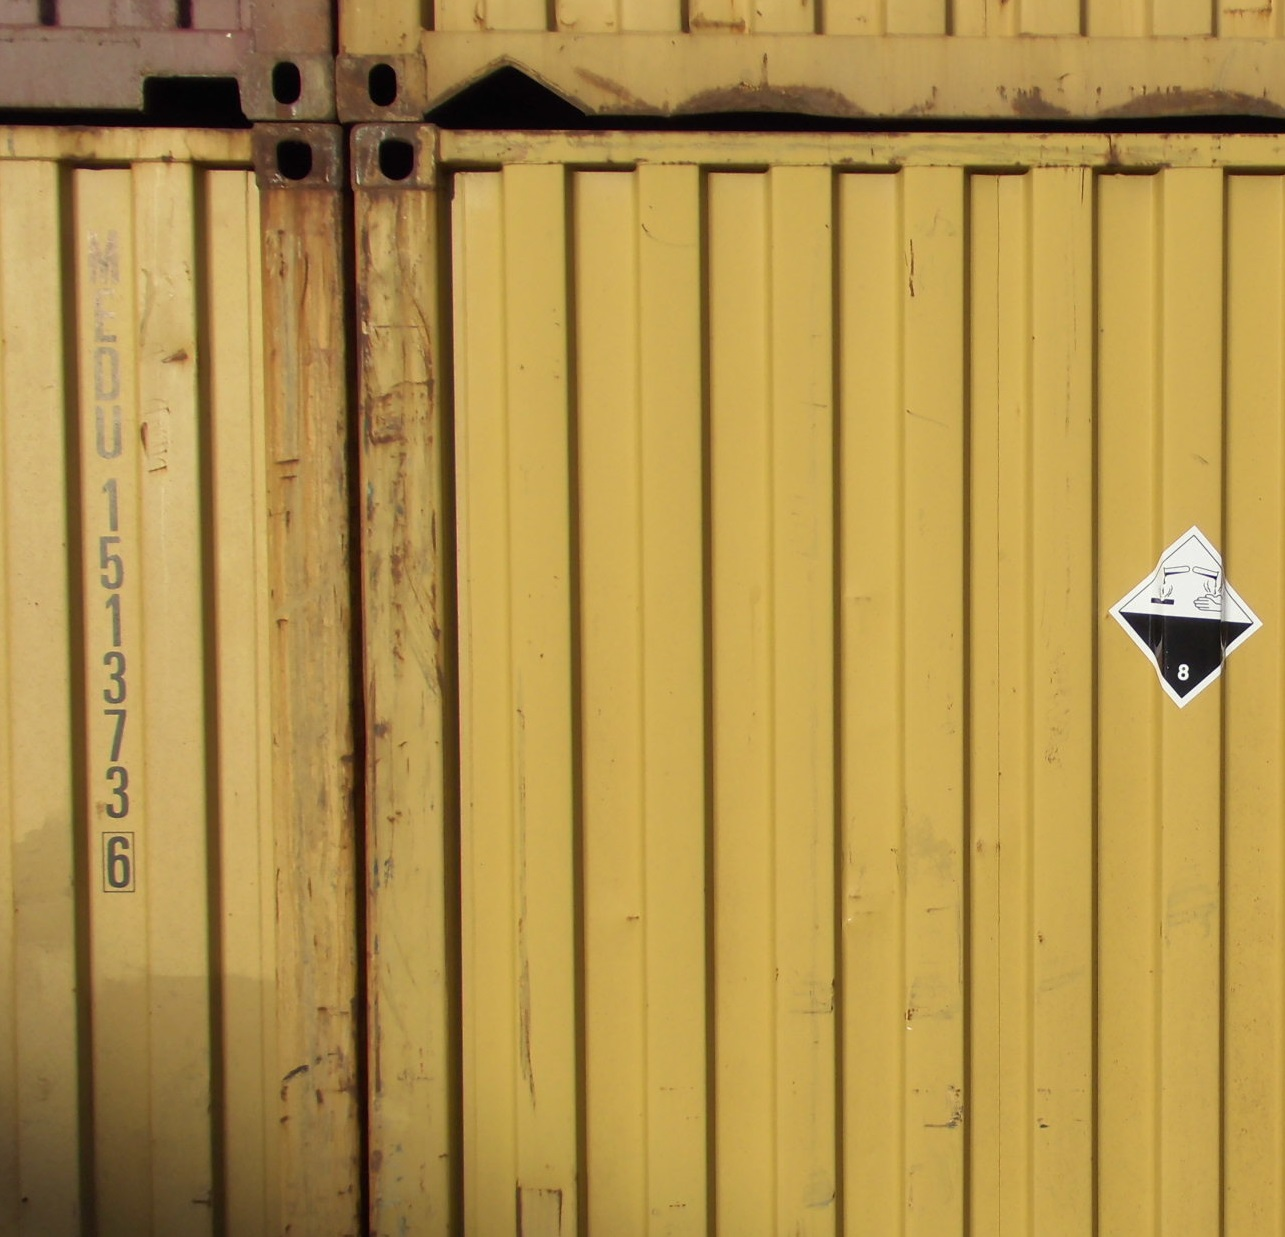container_no_door: (355, 116, 1282, 1235)
